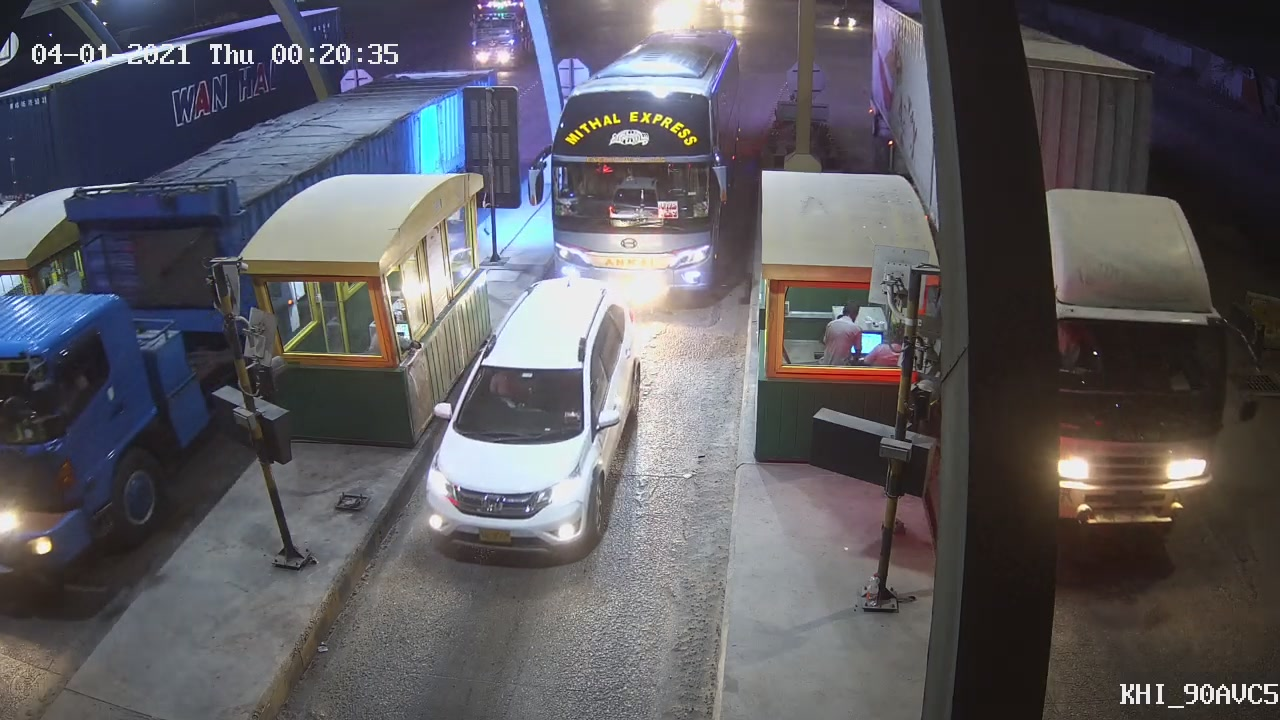F1: (433, 295, 642, 568)
F4: (528, 24, 757, 285)
